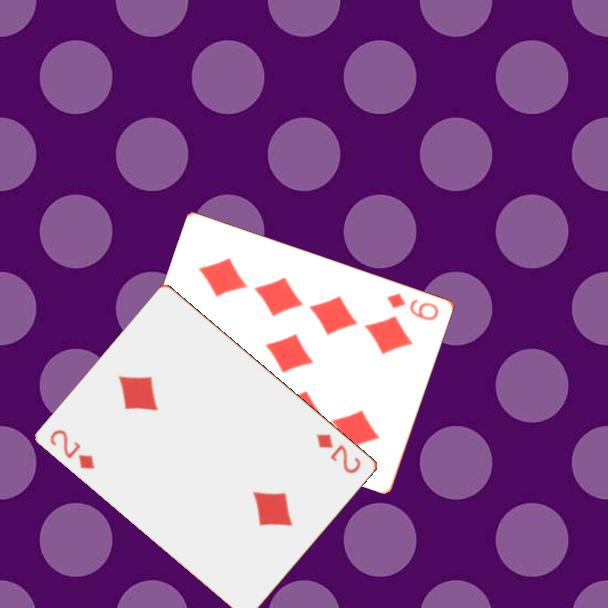d02: (313, 430, 365, 476), (46, 426, 98, 472)
d09: (384, 289, 442, 323)
